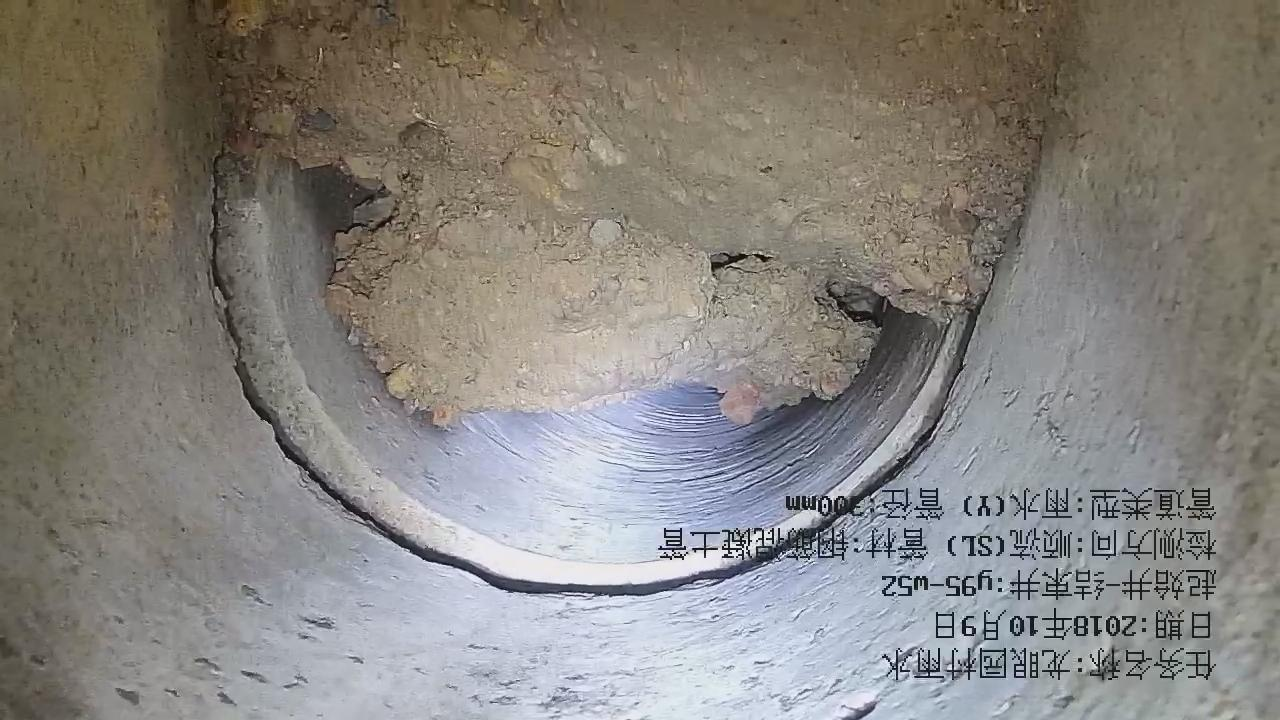CJ: (202, 1, 1066, 423)
CKTJ: (203, 117, 988, 601), (724, 258, 743, 268)
